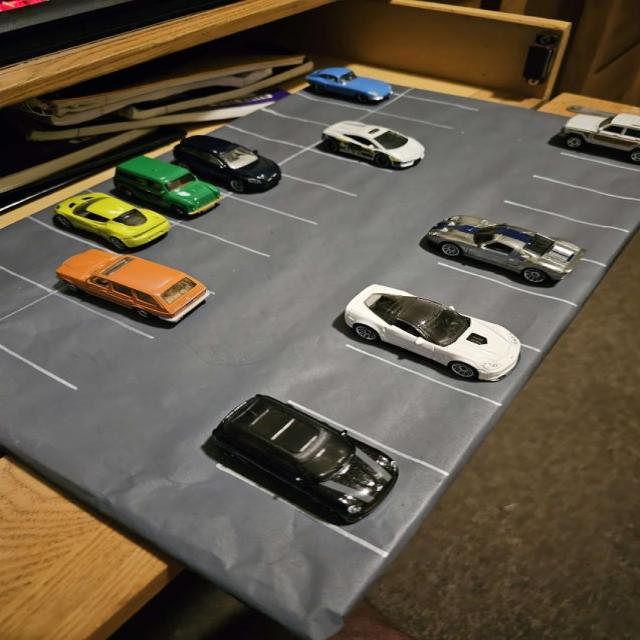Empty: (287, 345, 506, 478), (398, 262, 579, 354), (0, 291, 162, 390), (119, 225, 275, 297), (482, 200, 627, 267), (0, 217, 118, 297), (176, 195, 322, 259), (505, 175, 640, 235), (229, 174, 361, 227), (272, 149, 394, 195), (535, 151, 640, 203), (231, 109, 338, 148), (262, 94, 373, 126), (373, 95, 483, 127), (209, 129, 305, 165), (359, 112, 450, 144)
Taken: (192, 397, 457, 559), (347, 287, 541, 408), (438, 211, 609, 310), (45, 253, 229, 341), (28, 187, 184, 255), (83, 157, 232, 226), (152, 135, 276, 193), (308, 122, 434, 173), (558, 115, 640, 174), (291, 77, 407, 114)
